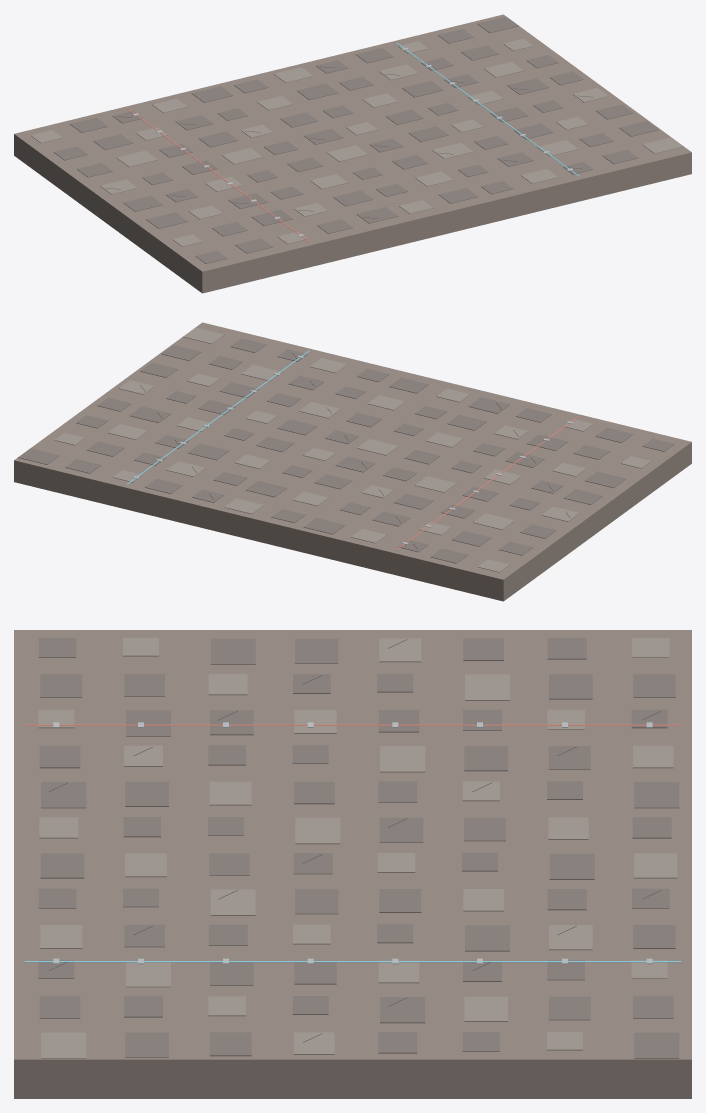
Rendered from suelo_mina.glb.
The picture shows the model from 3 angles, top to bottom: view 1: azimuth 30°, elevation 25°; view 2: azimuth 150°, elevation 25°; view 3: azimuth 270°, elevation 25°; orthographic projection. The views are drawn at different scales.
Visible parts, largest first — view 1: suelo_mina; view 2: suelo_mina; view 3: suelo_mina.
Boxes of the visible parts, x1,y1,x2,y2 form: suelo_mina: [14, 14, 691, 293]; suelo_mina: [14, 322, 691, 601]; suelo_mina: [14, 630, 691, 1098].
Size of the model in its own units: 24 by 1.08 by 16.
